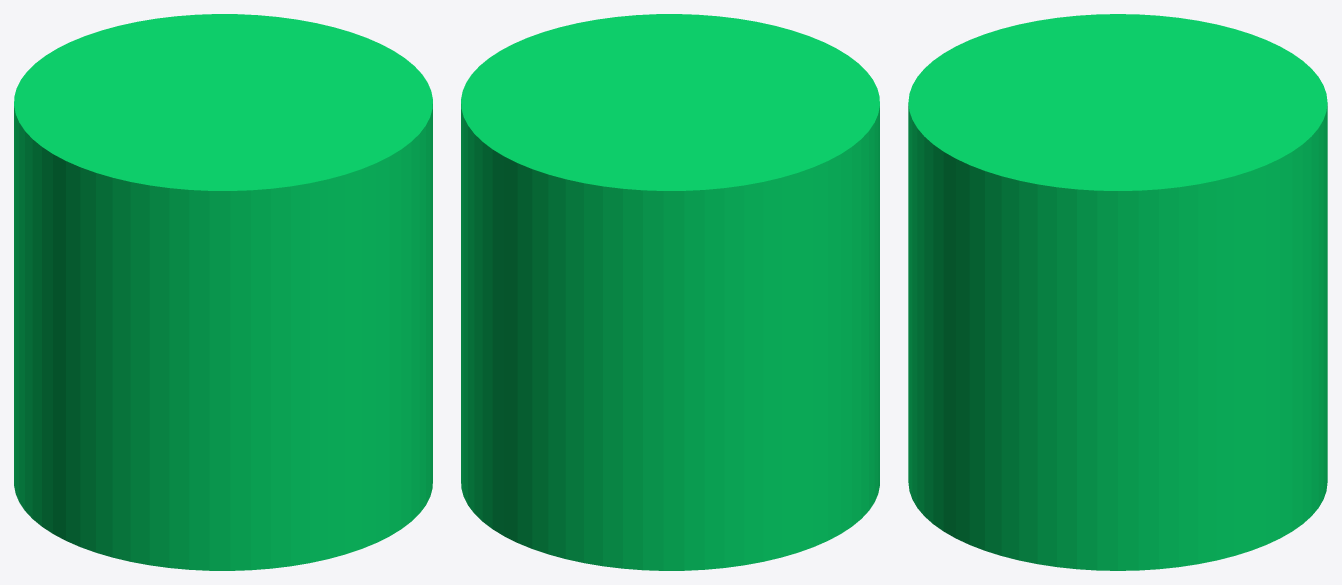
3 views of the same model, side by side, from view 1: azimuth 30°, elevation 25°; view 2: azimuth 150°, elevation 25°; view 3: azimuth 270°, elevation 25° (orthographic).
Visible parts, largest first — view 1: Cylinder.002; view 2: Cylinder.002; view 3: Cylinder.002.
Boxes of the visible parts, x1=… form: Cylinder.002: x1=14, y1=14, x2=432, y2=570; Cylinder.002: x1=461, y1=14, x2=879, y2=570; Cylinder.002: x1=908, y1=14, x2=1327, y2=570.
Size of the model in its own units: 200 by 200 by 200.
